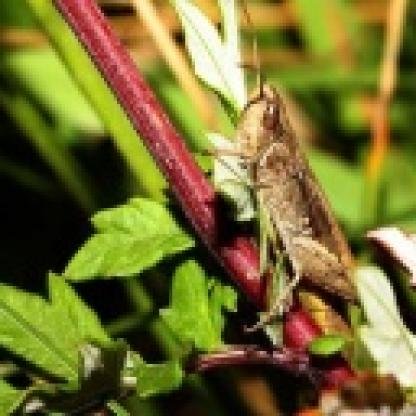grasshopper: (205, 60, 365, 320)
